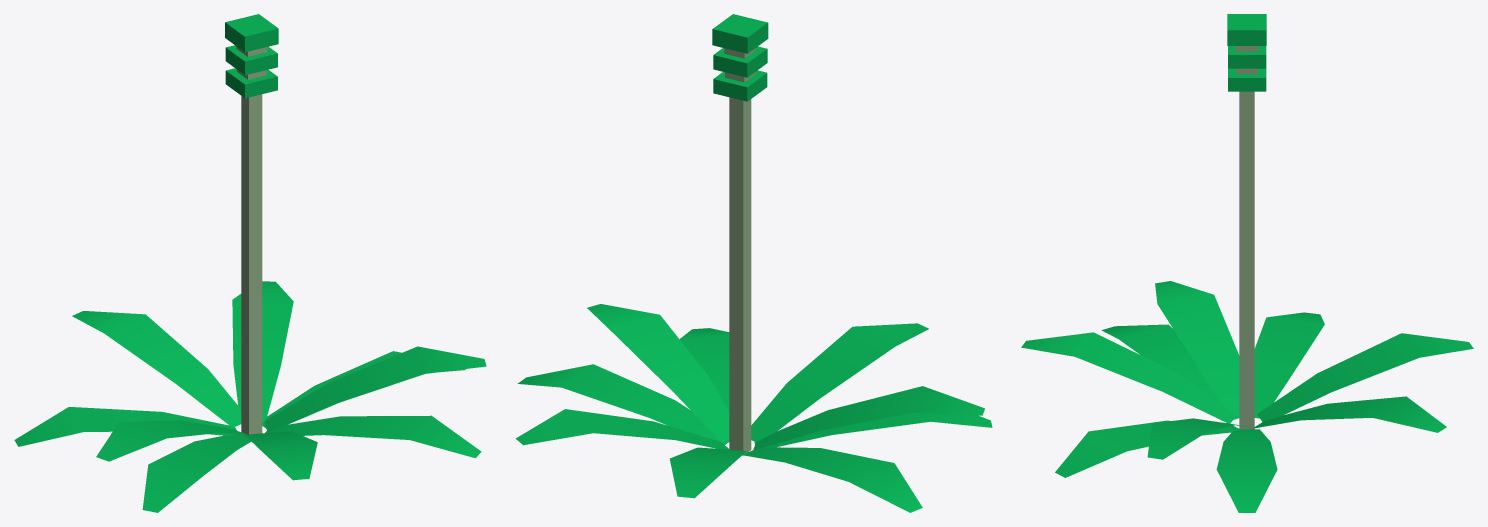
Rendered from stalker.fbx.
3 views of the same model, side by side, from view 1: azimuth 30°, elevation 25°; view 2: azimuth 150°, elevation 25°; view 3: azimuth 270°, elevation 25° (orthographic). The views are drawn at different scales.
Visible parts, largest first — view 1: polySurface2; view 2: polySurface2; view 3: polySurface2.
Boxes of the visible parts, bbox=[...] form: polySurface2: bbox=[14, 14, 486, 512]; polySurface2: bbox=[515, 14, 992, 512]; polySurface2: bbox=[1021, 14, 1473, 512].
Bounding box in the file's own units: 12.14 × 11.44 × 11.58.
